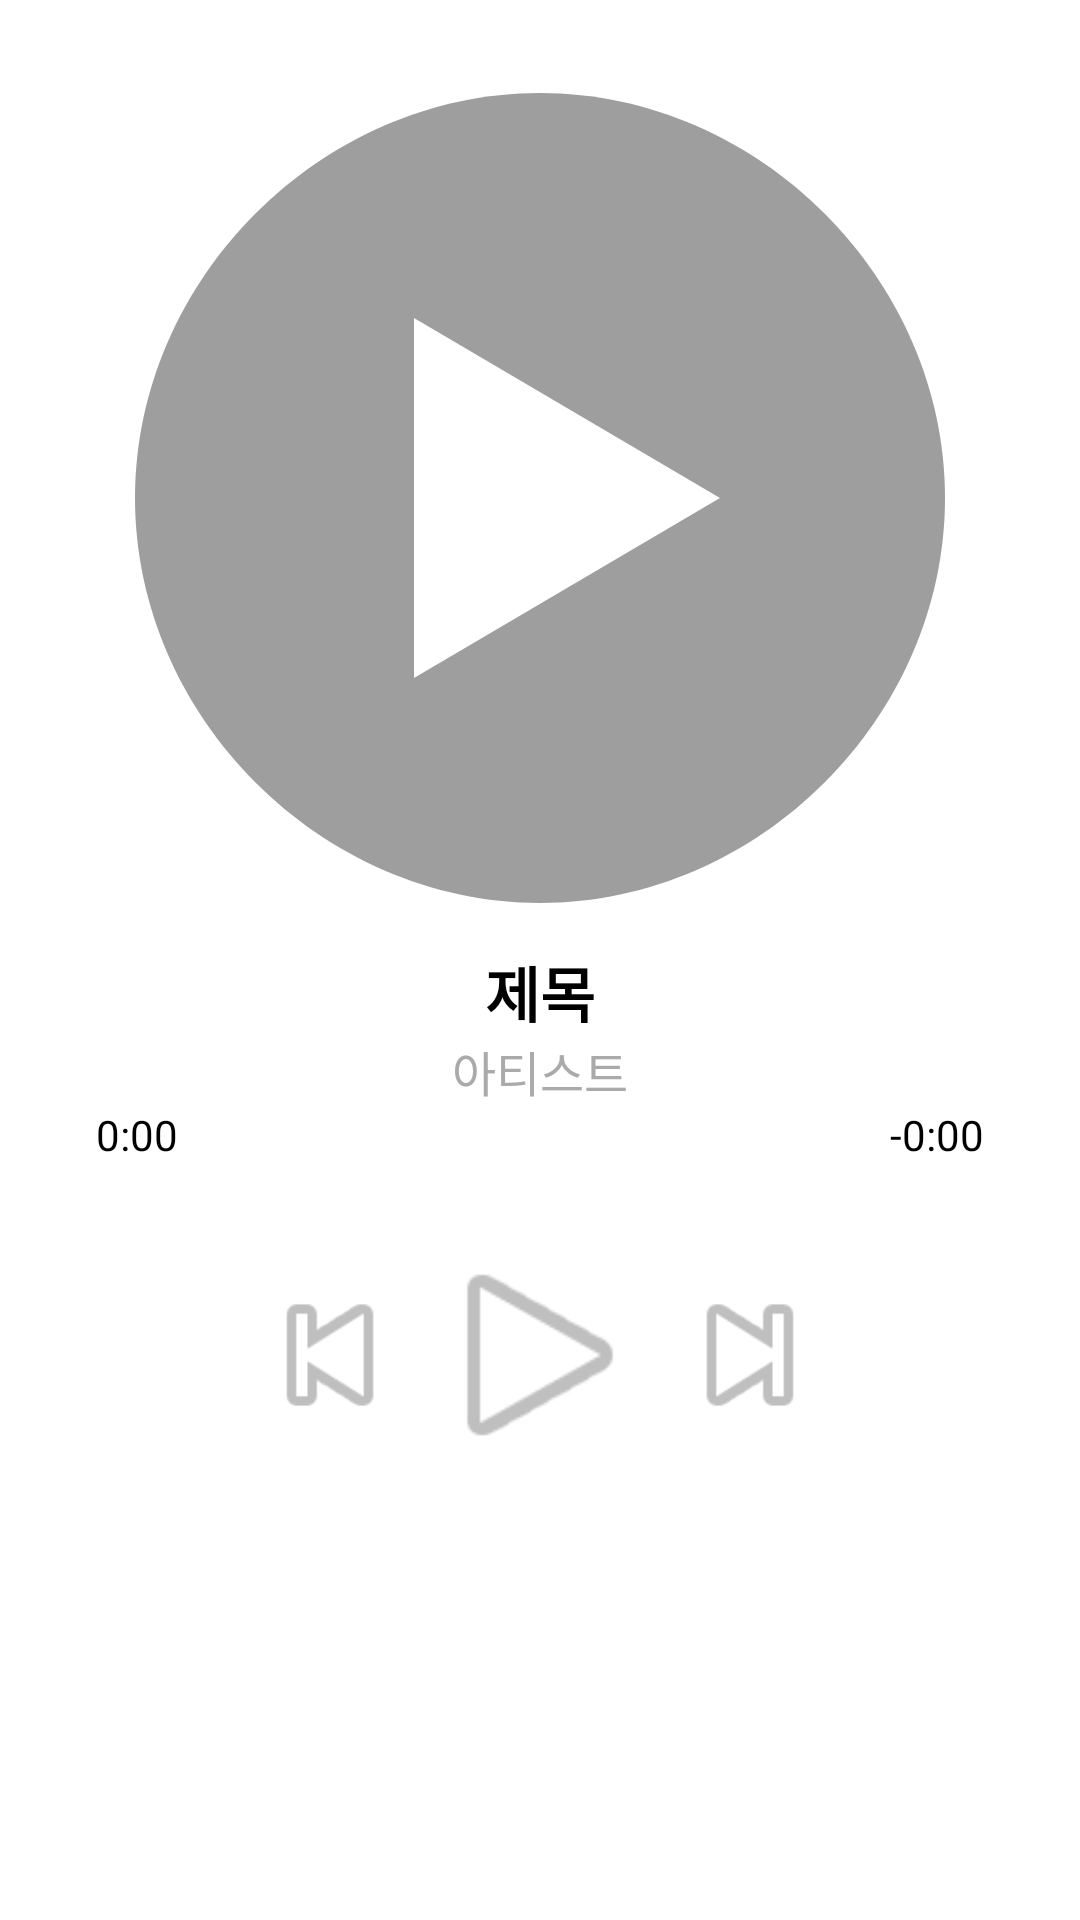

Point at icon controls on the screen. Image size 1080w x 1920h, points as [x,y].
다음 곡: [750,1355]
이전 곡: [330,1355]
재생/중지: [540,1355]
